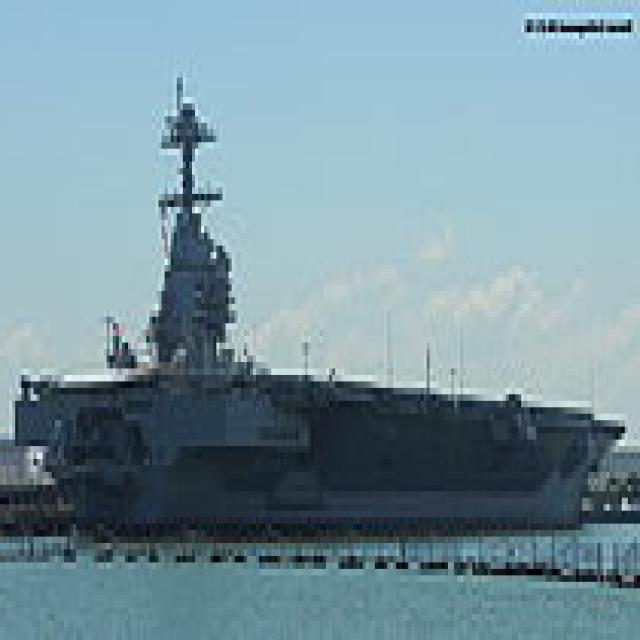Warship: (36, 65, 631, 530)
